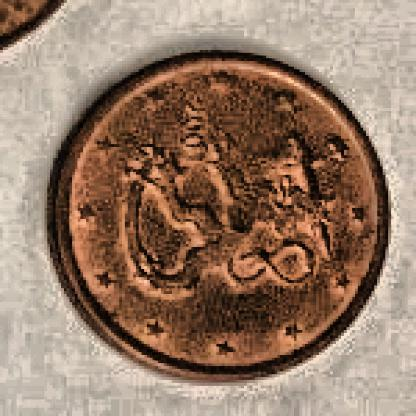coin: (48, 53, 395, 384)
